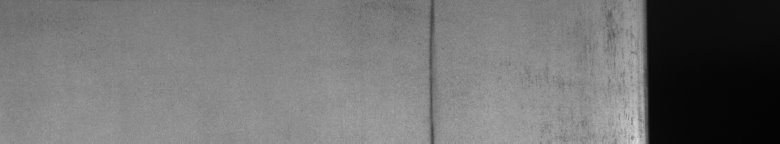hd: (424, 4, 442, 136)
